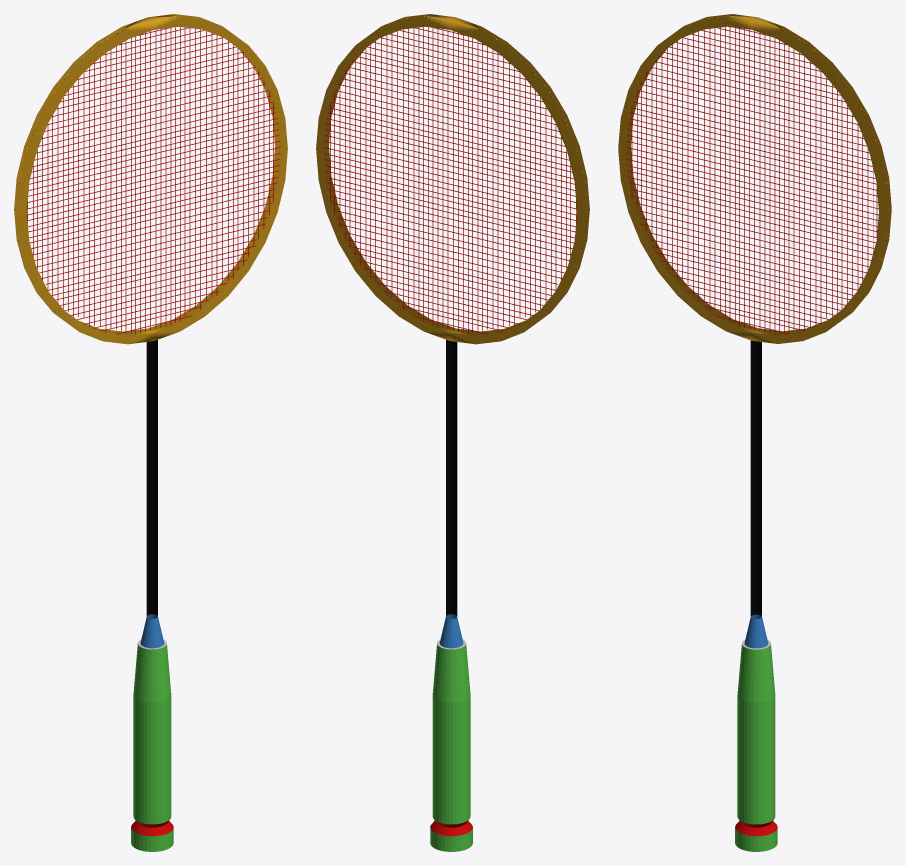
File: batminton.obj
3 renders of one model, left to right at view 1: azimuth 30°, elevation 25°; view 2: azimuth 150°, elevation 25°; view 3: azimuth 330°, elevation 25°, orthographic.
Visible parts, largest first — view 1: Cylinder.025; view 2: Cylinder.025; view 3: Cylinder.025.
Boxes of the visible parts, bbox=[...] form: Cylinder.025: bbox=[14, 14, 287, 851]; Cylinder.025: bbox=[316, 14, 589, 851]; Cylinder.025: bbox=[618, 14, 891, 851].
Bounding box in the file's own units: 1.61 × 4.75 × 0.223.
